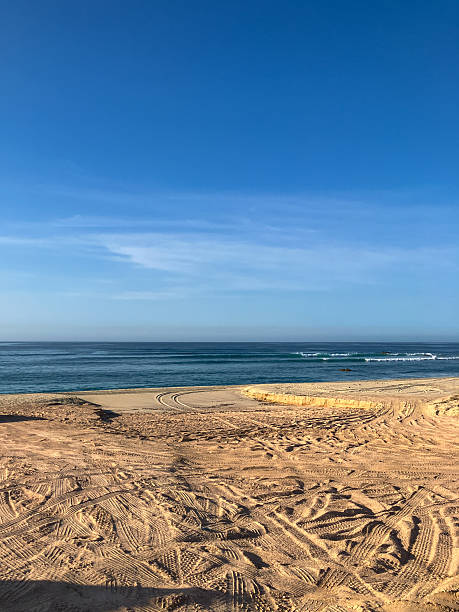vehicle_track: (0, 388, 457, 611)
